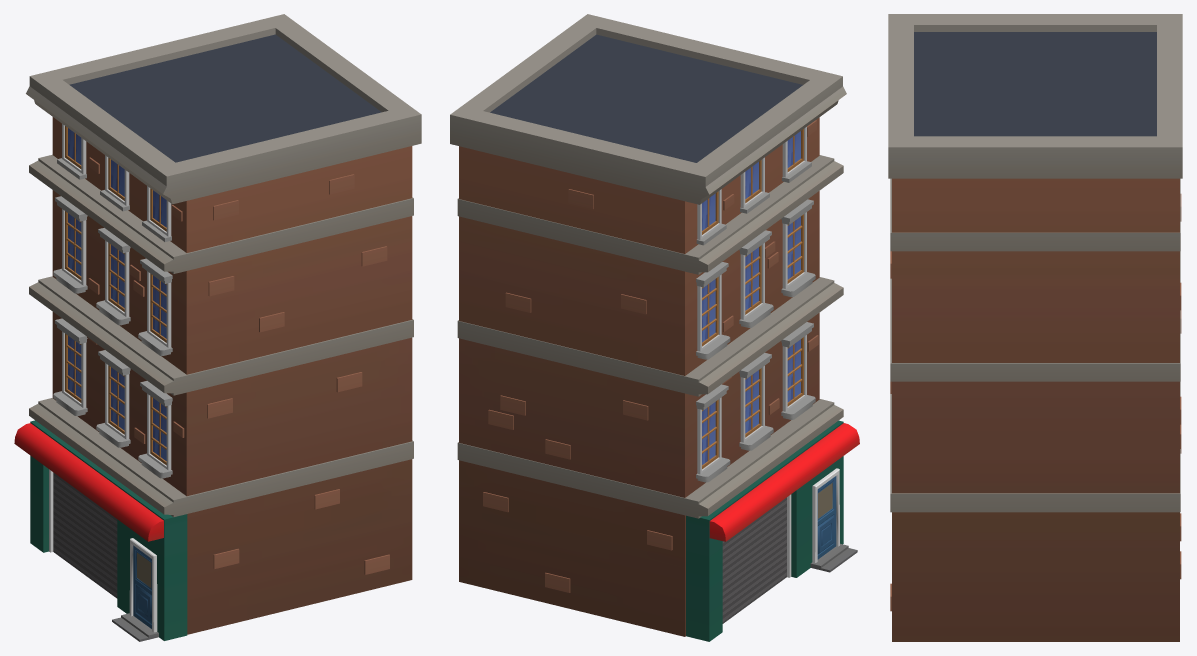
Rendered from Building_19_1_A.fbx.
3 renders of one model, left to right at view 1: azimuth 30°, elevation 25°; view 2: azimuth 150°, elevation 25°; view 3: azimuth 270°, elevation 25°, orthographic. The views are drawn at different scales.
Visible parts, largest first — view 1: Building_19_1_A; view 2: Building_19_1_A; view 3: Building_19_1_A.
Boxes of the visible parts, left/top/right/bottom form: Building_19_1_A: left=14, top=14, right=421, bottom=641; Building_19_1_A: left=450, top=14, right=859, bottom=641; Building_19_1_A: left=888, top=14, right=1182, bottom=641.
Size of the model in its own units: 774 by 1247 by 667.
